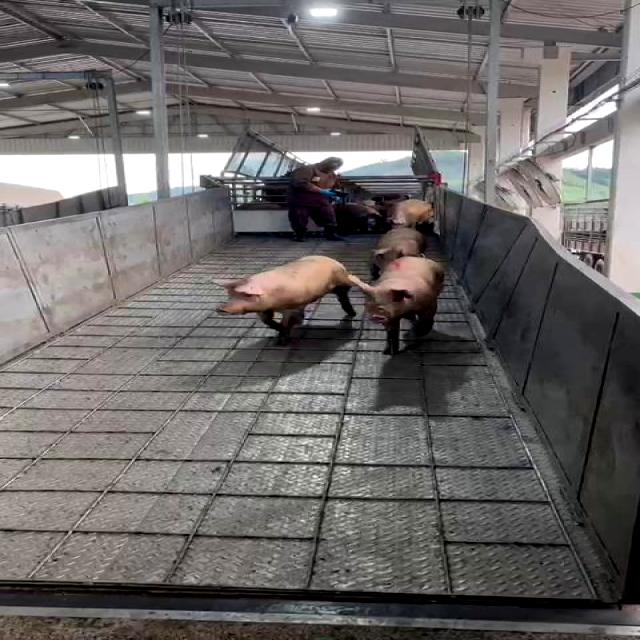pig: (215, 255, 355, 343), (351, 256, 445, 353), (371, 228, 426, 279)
